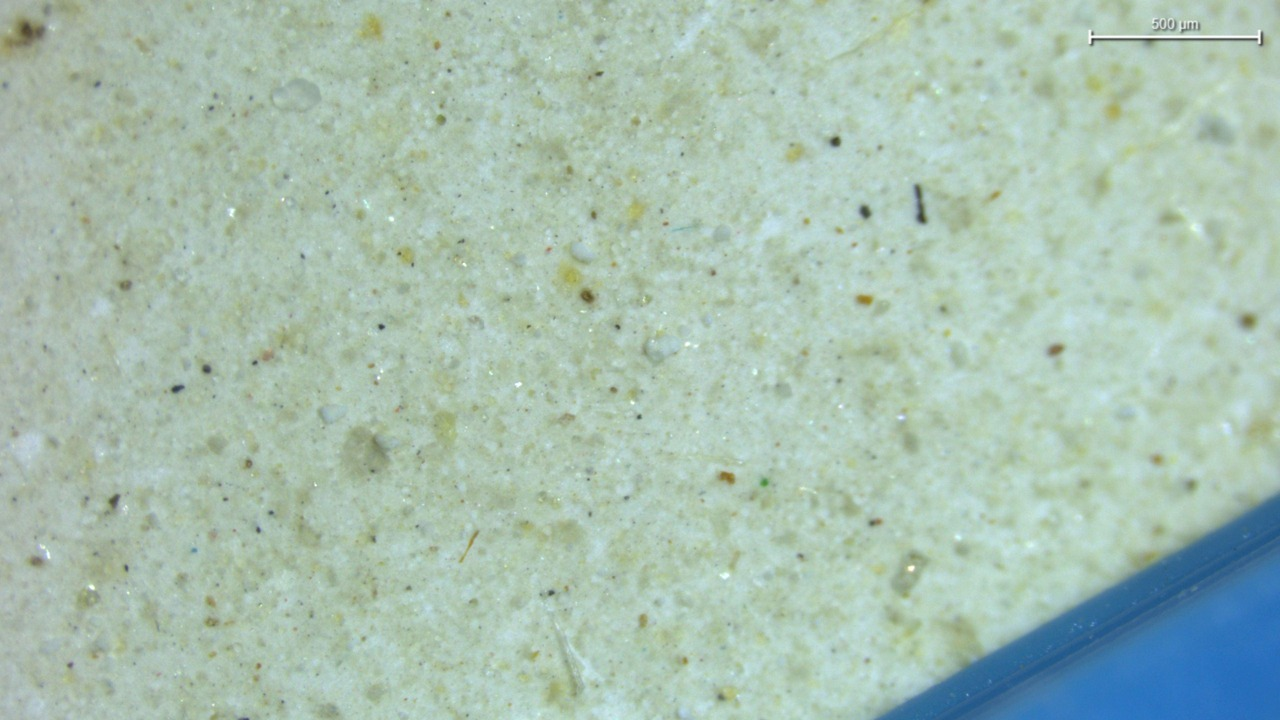microplastic_fragment: (272, 78, 321, 112), (644, 330, 681, 363), (373, 434, 401, 457), (319, 404, 347, 425), (571, 242, 595, 262)
